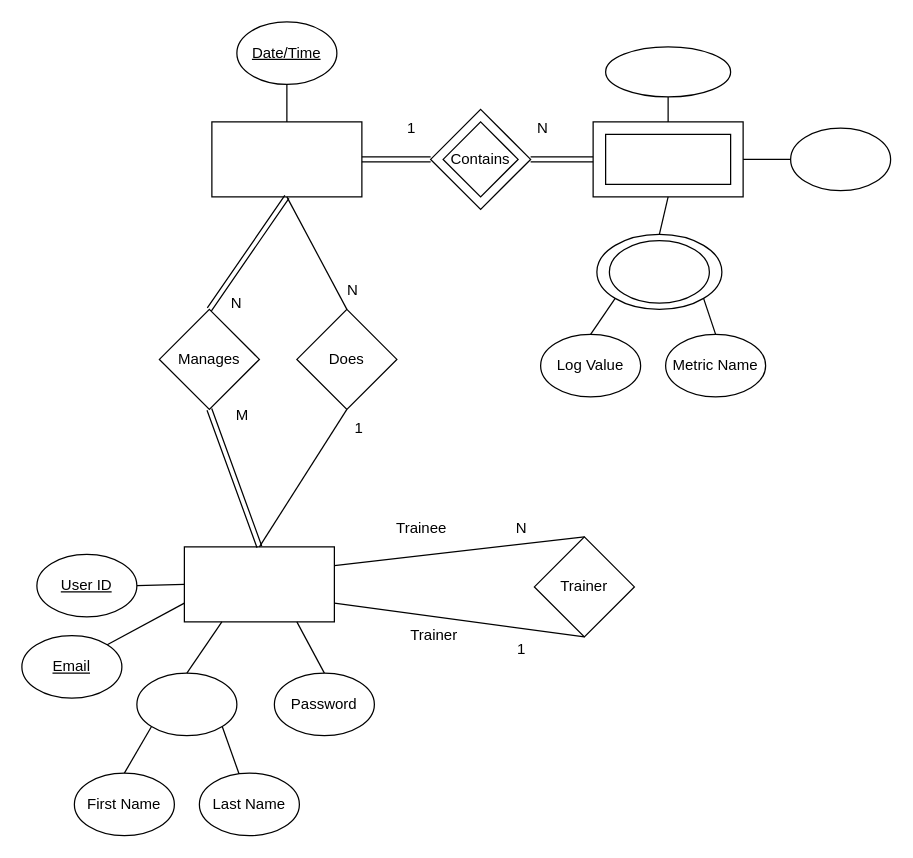
This 913x858 diagram has some shape labels left out. Here are the shapes that lost their labels. From the top down, the centre of each, then its label:
At (x=667, y=71): "Order".
At (x=286, y=159): "Workout Session".
At (x=667, y=158): "Exercise (Weak)".
At (x=840, y=159): "ActivityName".
At (x=658, y=271): "Metrics".
At (x=258, y=584): "User".
At (x=186, y=704): "User Name".
